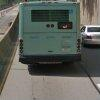Bus: (15, 0, 86, 76)
